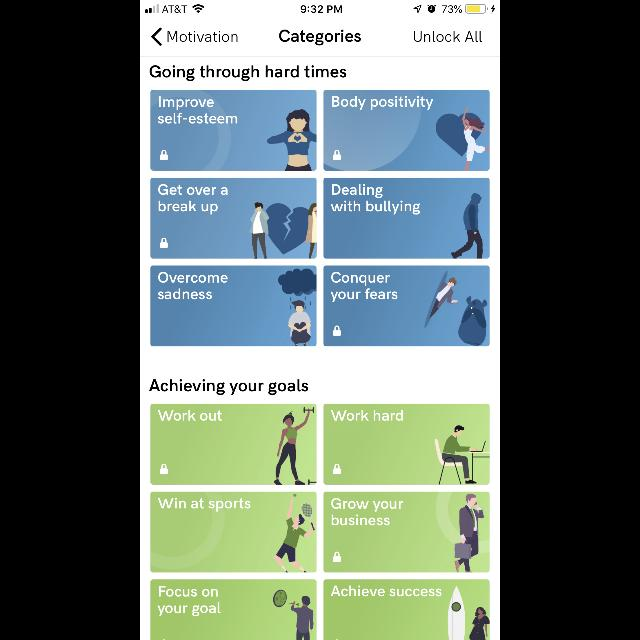icon: (152, 28, 162, 46), (160, 464, 168, 474), (334, 464, 342, 474), (333, 150, 341, 160), (160, 238, 168, 248), (160, 150, 168, 160), (334, 552, 341, 562), (334, 326, 341, 336)
image: (425, 272, 489, 346), (250, 202, 316, 258), (434, 425, 490, 485), (435, 108, 489, 170), (274, 493, 316, 572), (274, 407, 316, 485), (278, 268, 316, 346), (268, 110, 316, 170), (451, 194, 489, 258), (454, 493, 484, 572), (448, 586, 489, 640), (274, 590, 316, 640)
text: (332, 183, 421, 214), (150, 66, 346, 80), (150, 379, 308, 395), (158, 96, 238, 124), (158, 183, 228, 214), (330, 272, 398, 302), (331, 498, 403, 526), (158, 272, 228, 300), (157, 586, 220, 616), (332, 96, 434, 110), (279, 30, 361, 46), (157, 497, 250, 511), (331, 586, 441, 596), (331, 410, 404, 420), (168, 32, 238, 42), (414, 32, 482, 42), (158, 410, 222, 420)
uppertaskbar: (140, 0, 500, 14)
